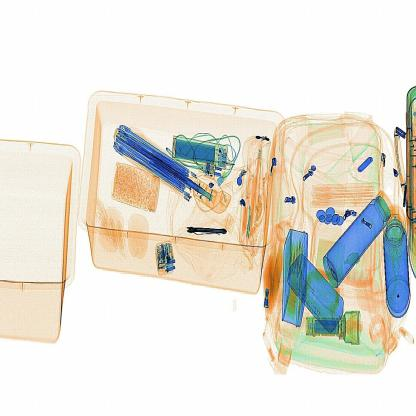knife: (189, 221, 230, 242)
